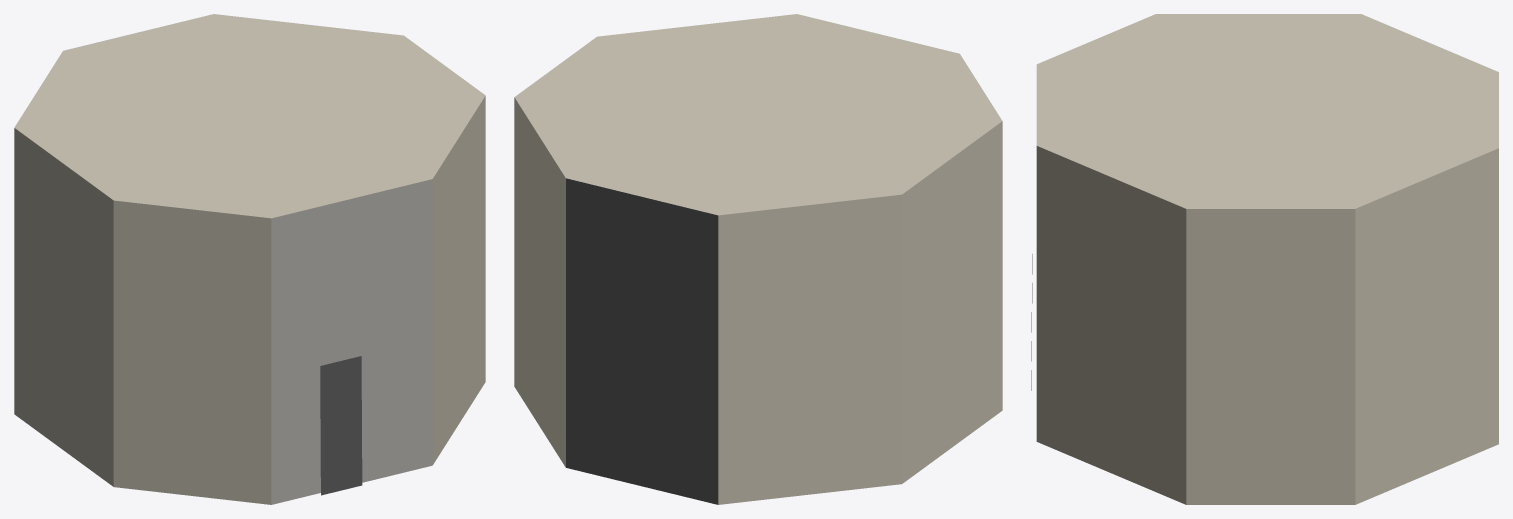
File: loin-etape-1.glb
The picture shows the model from 3 angles, left to right: view 1: azimuth 30°, elevation 25°; view 2: azimuth 150°, elevation 25°; view 3: azimuth 270°, elevation 25°; orthographic projection. The views are drawn at different scales.
Parts seen in each view (by area): view 1: loin; view 2: loin; view 3: loin.
Boxes of the visible parts, box(x1,y1,x2,y2) form: loin: box(14, 14, 485, 504); loin: box(514, 14, 1002, 504); loin: box(1031, 14, 1498, 504).
Size of the model in its own units: 0.7547 by 0.5346 by 0.7658.
